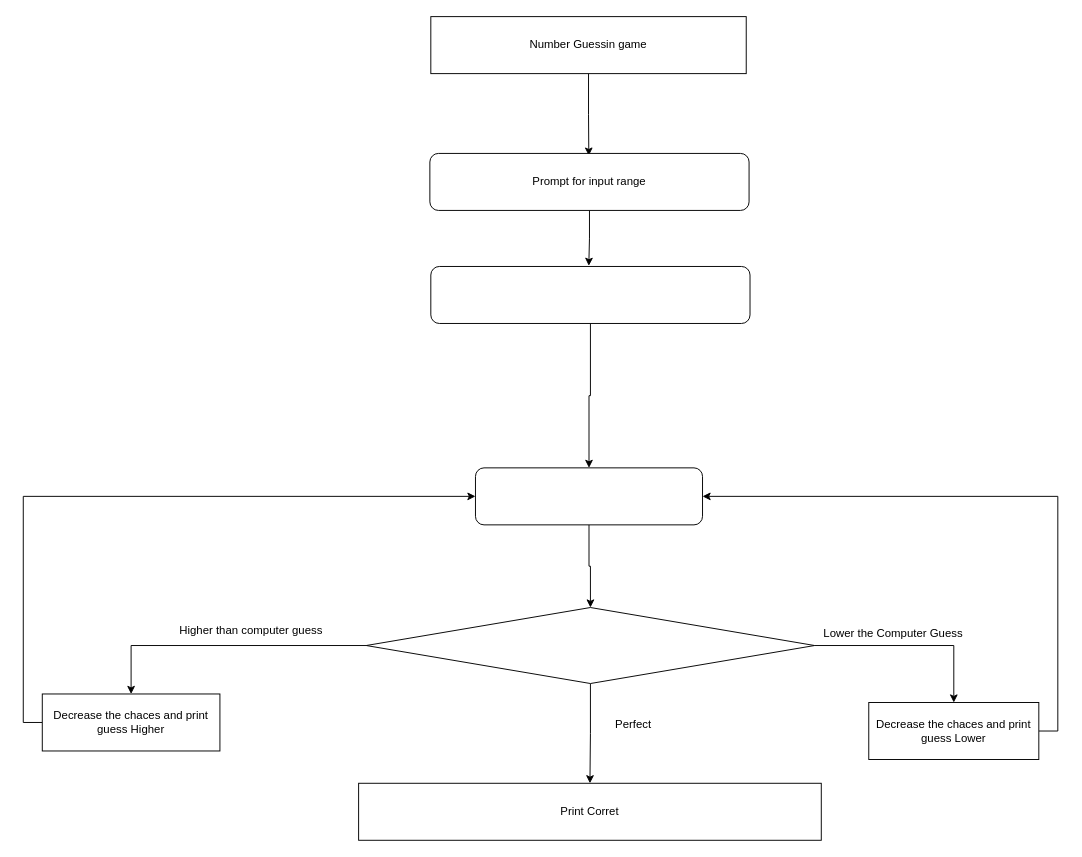
This 1082x857 diagram has some shape labels left out. Each missing label, with the centre of its shape:
ask user's input to define the level to play: the point at 590,294
Take User's input: the point at 589,496
validate with computer's guess: the point at 590,645
